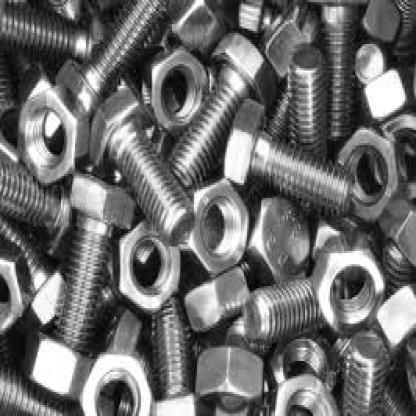METAL: (164, 27, 275, 187), (86, 88, 194, 244), (222, 97, 352, 218), (51, 169, 132, 348), (53, 0, 168, 115), (0, 0, 105, 73), (327, 330, 414, 414), (311, 231, 383, 332), (17, 84, 88, 185), (112, 213, 180, 317), (286, 44, 328, 209), (0, 156, 69, 253), (139, 42, 208, 132), (147, 295, 199, 414), (188, 174, 249, 275), (336, 124, 397, 223), (263, 330, 338, 403), (252, 194, 308, 288), (75, 350, 153, 414), (192, 343, 262, 414), (22, 328, 94, 396), (258, 0, 317, 82), (317, 0, 352, 137), (182, 264, 249, 330), (0, 359, 80, 414), (341, 330, 386, 414), (264, 370, 341, 414), (378, 108, 414, 200), (0, 244, 33, 339), (376, 282, 414, 359), (357, 66, 405, 123), (167, 0, 222, 49), (360, 0, 400, 53), (382, 238, 414, 295), (352, 37, 385, 88), (236, 0, 266, 31)
